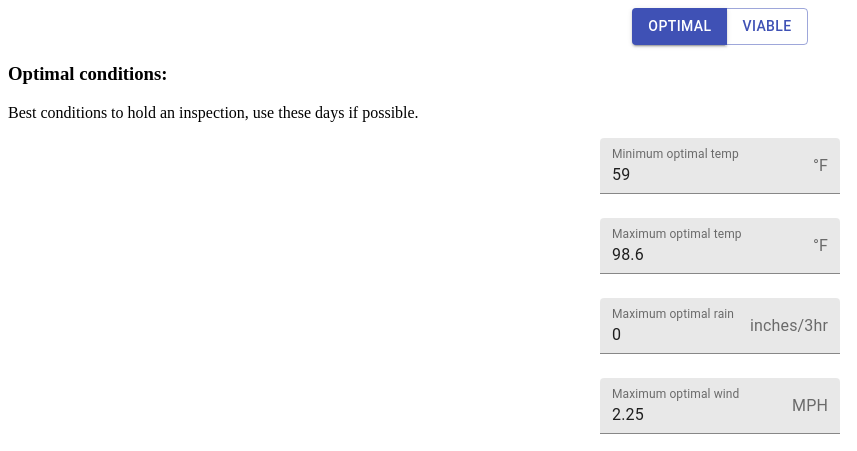
Test: clicking the display viable button show the viable settings
The image size is (857, 451).
Click the button with test id "display-viable-button" at (767,26), box [726,8,808,44]
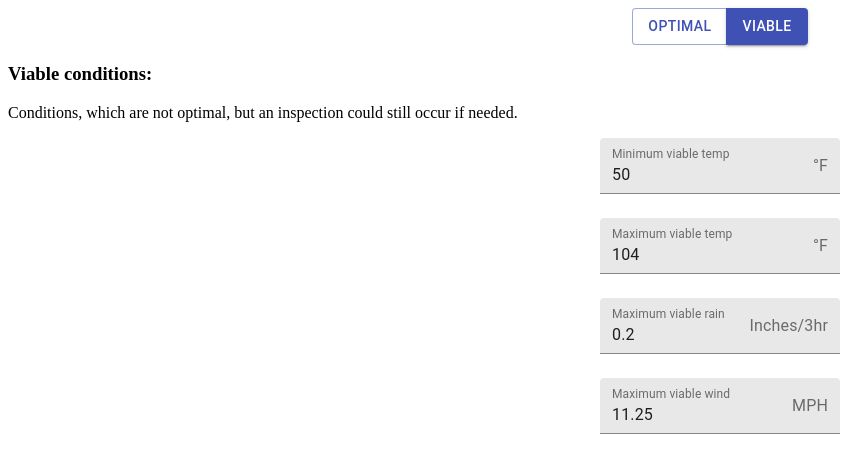
Check: the heading "Viable conditions:" is shown, box [8,63,152,84]
